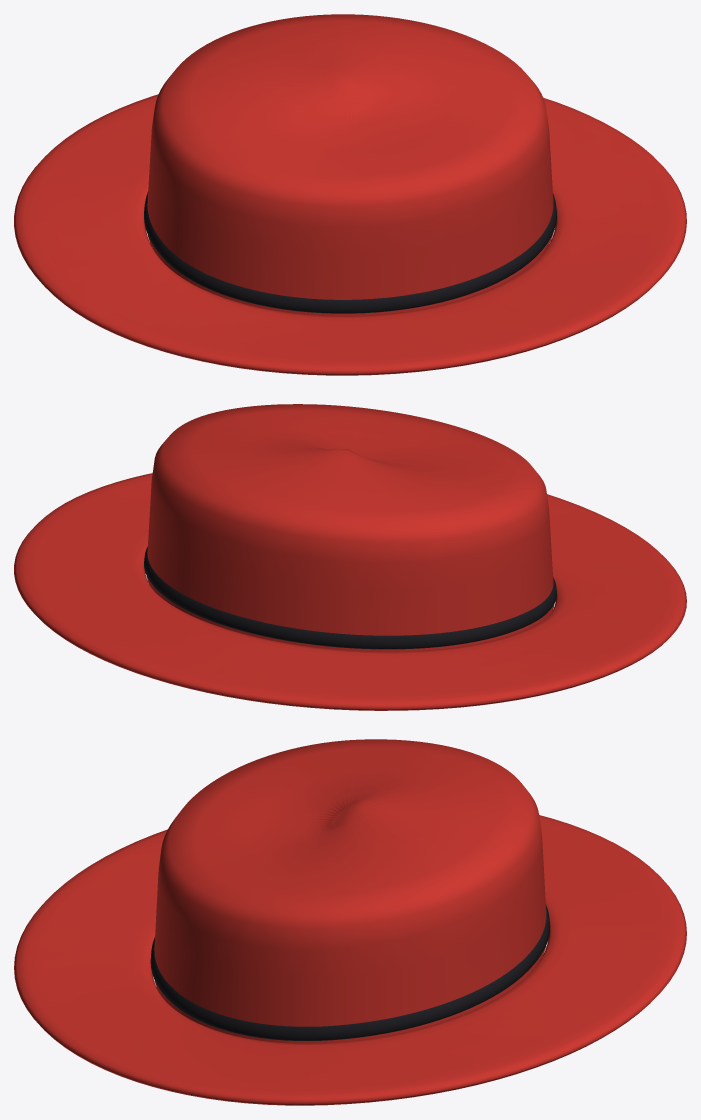
The model's file is hw_flatbrim.glb.
The picture shows the model from 3 angles, top to bottom: view 1: azimuth 30°, elevation 25°; view 2: azimuth 150°, elevation 25°; view 3: azimuth 270°, elevation 25°; orthographic projection. The views are drawn at different scales.
Parts seen in each view (by area): view 1: hw_flatbrim, hw_flatbrim_brim, hw_flatbrim_band; view 2: hw_flatbrim, hw_flatbrim_brim, hw_flatbrim_band; view 3: hw_flatbrim, hw_flatbrim_brim, hw_flatbrim_band.
Part boxes in pixels (x1,y1,x2,y2): hw_flatbrim: [147, 14, 553, 315]; hw_flatbrim_brim: [14, 94, 686, 375]; hw_flatbrim_band: [144, 191, 556, 313]; hw_flatbrim: [146, 404, 554, 651]; hw_flatbrim_brim: [14, 473, 686, 710]; hw_flatbrim_band: [144, 546, 556, 649]; hw_flatbrim: [154, 739, 546, 1043]; hw_flatbrim_brim: [14, 815, 686, 1105]; hw_flatbrim_band: [150, 905, 550, 1040].
Bounding box in the file's own units: 1.33 × 0.3483 × 1.24.
